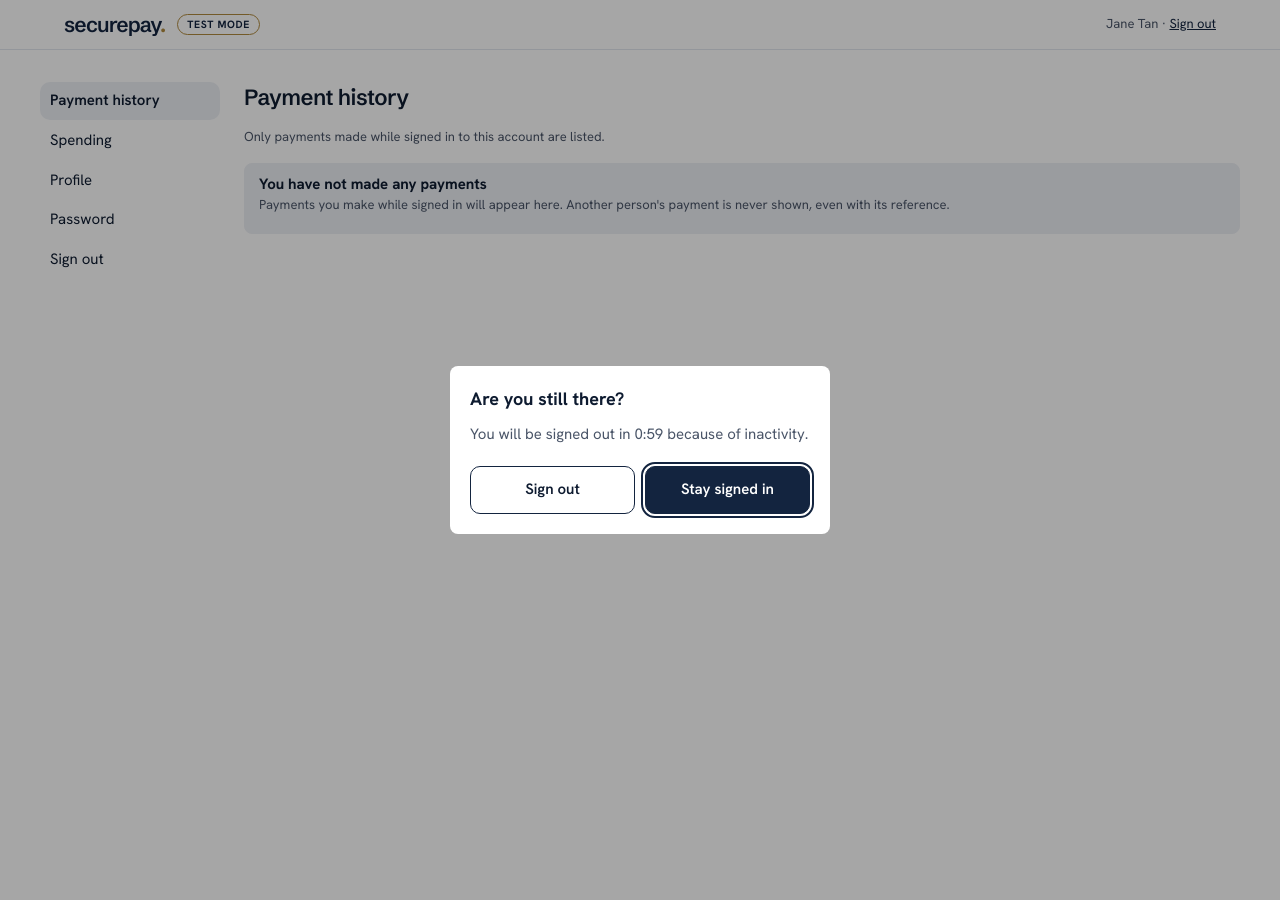
Test: idle warning and personal data (FR-ACC-10, FR-ACC-13) › warns before signing out an idle customer and stays on request
The image size is (1280, 900).
Click the button "Stay signed in".
click(728, 490)  # box x1=645 y1=466 x2=810 y2=514
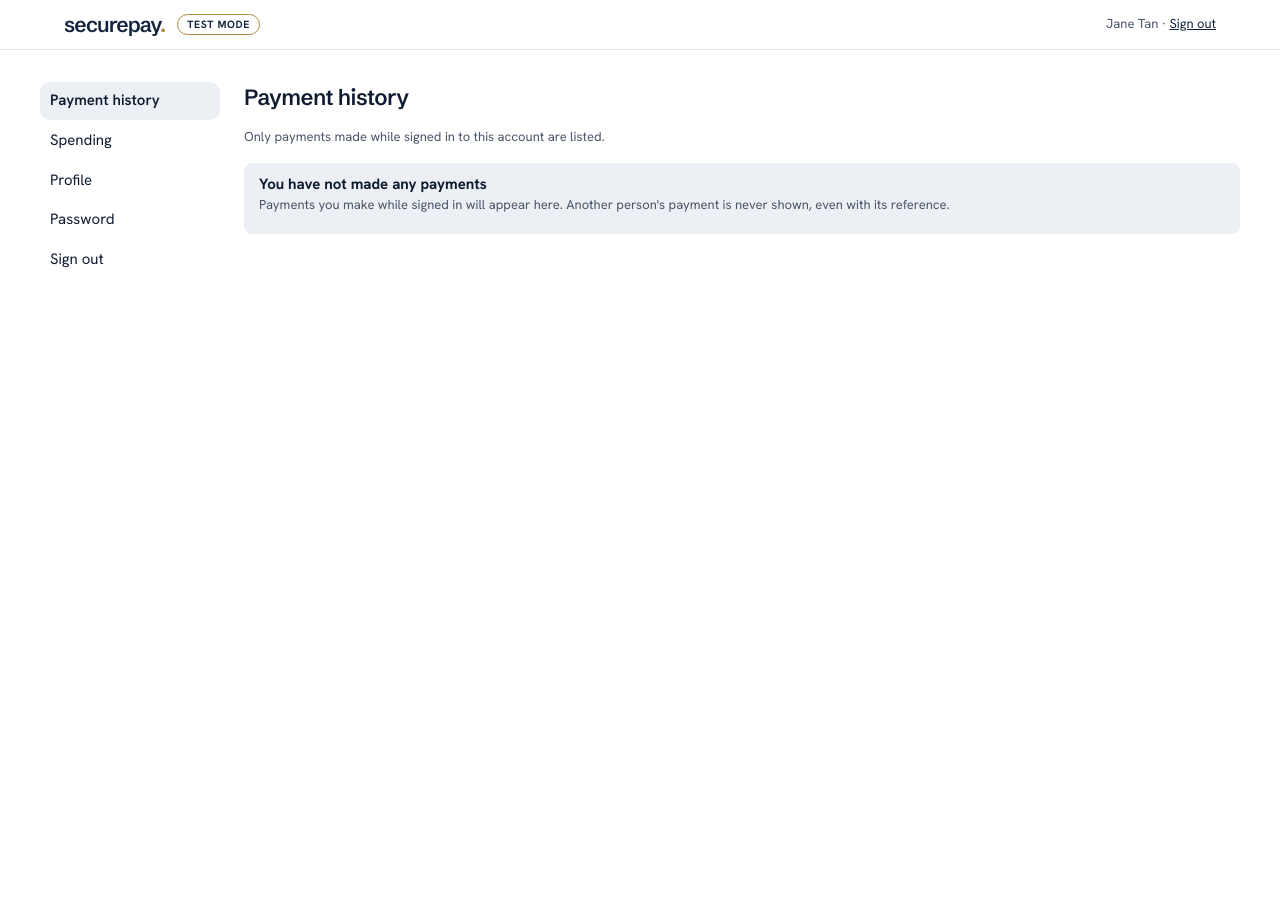
Result: the dialog is gone
